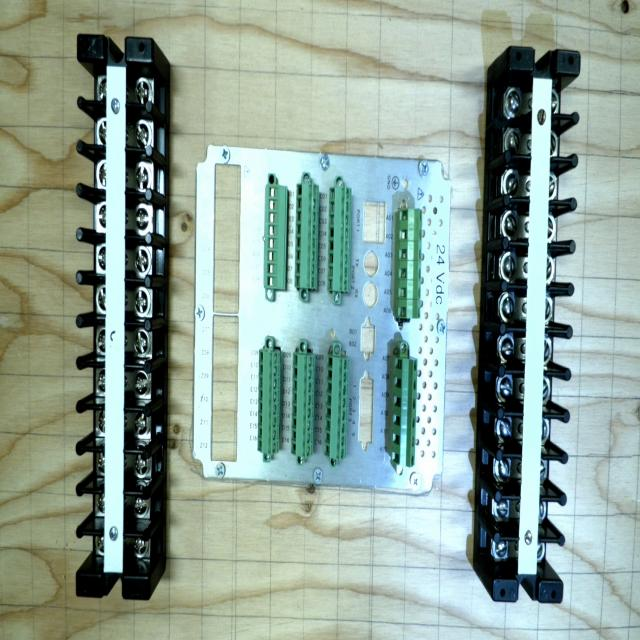Flathead_Block: (493, 48, 580, 602)
Phillips_Block: (77, 35, 151, 600)
Terminal_1: (397, 208, 422, 318), (392, 357, 417, 467)
Terminal_2: (324, 355, 350, 461), (327, 186, 352, 292), (295, 183, 319, 289), (291, 353, 315, 458), (258, 350, 280, 455)
